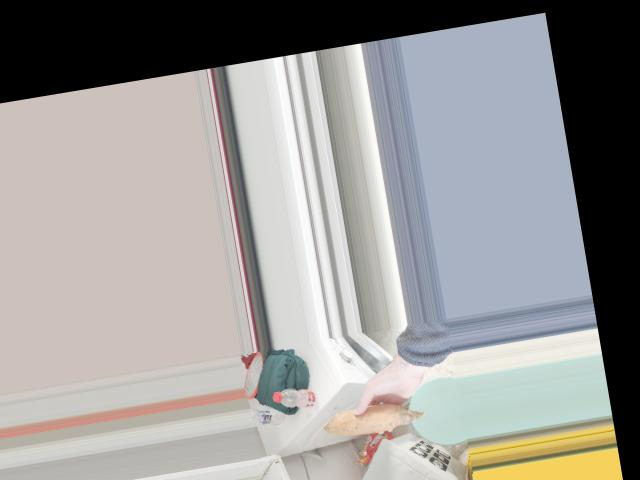sweet_potato: (325, 401, 414, 438)
